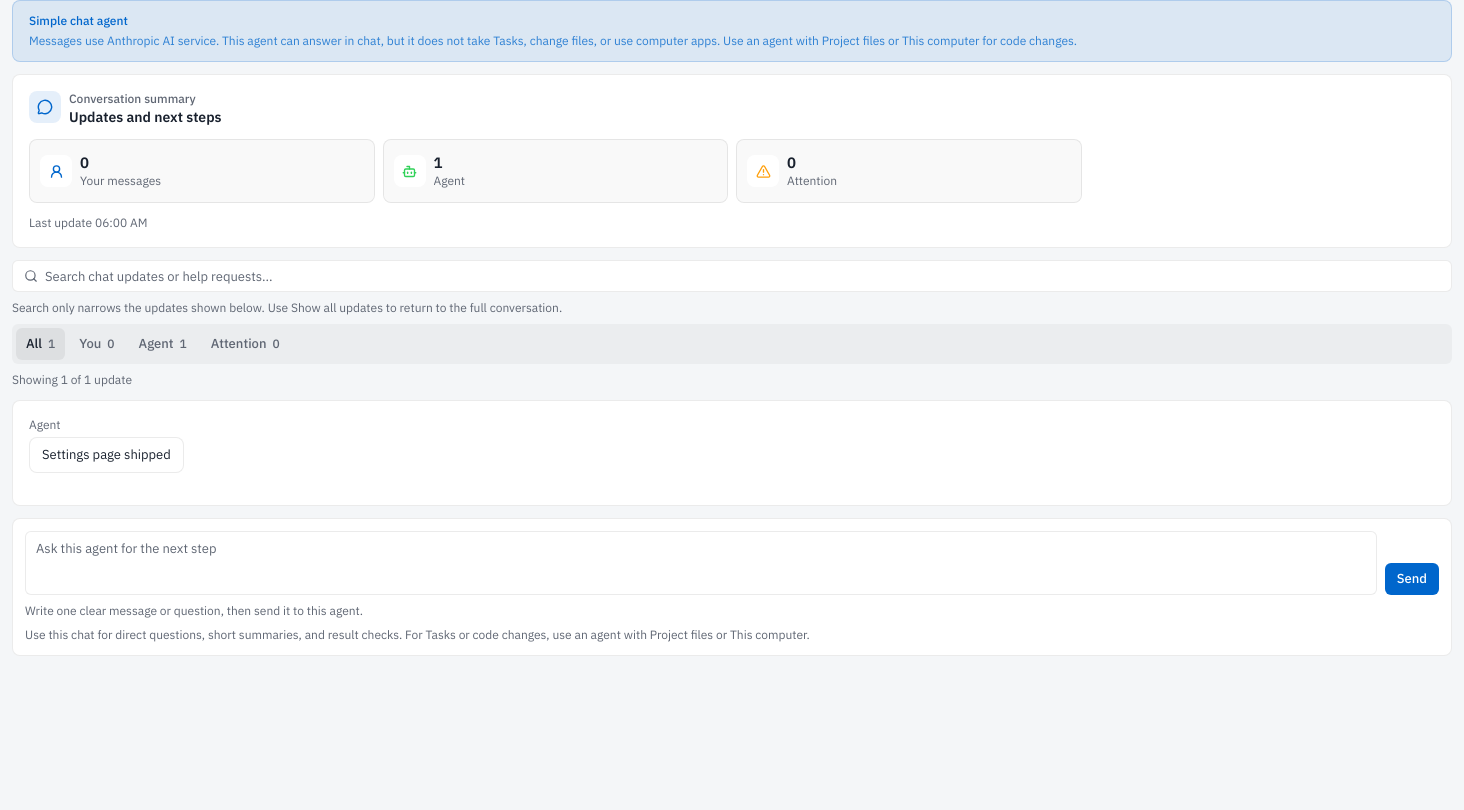
Scenario: ChatView › explains an empty You filter without operator jargon
Click the button with aria-label "show your messages, 0 matching updates". click: (97, 344)
box: 69,328 -> 125,360
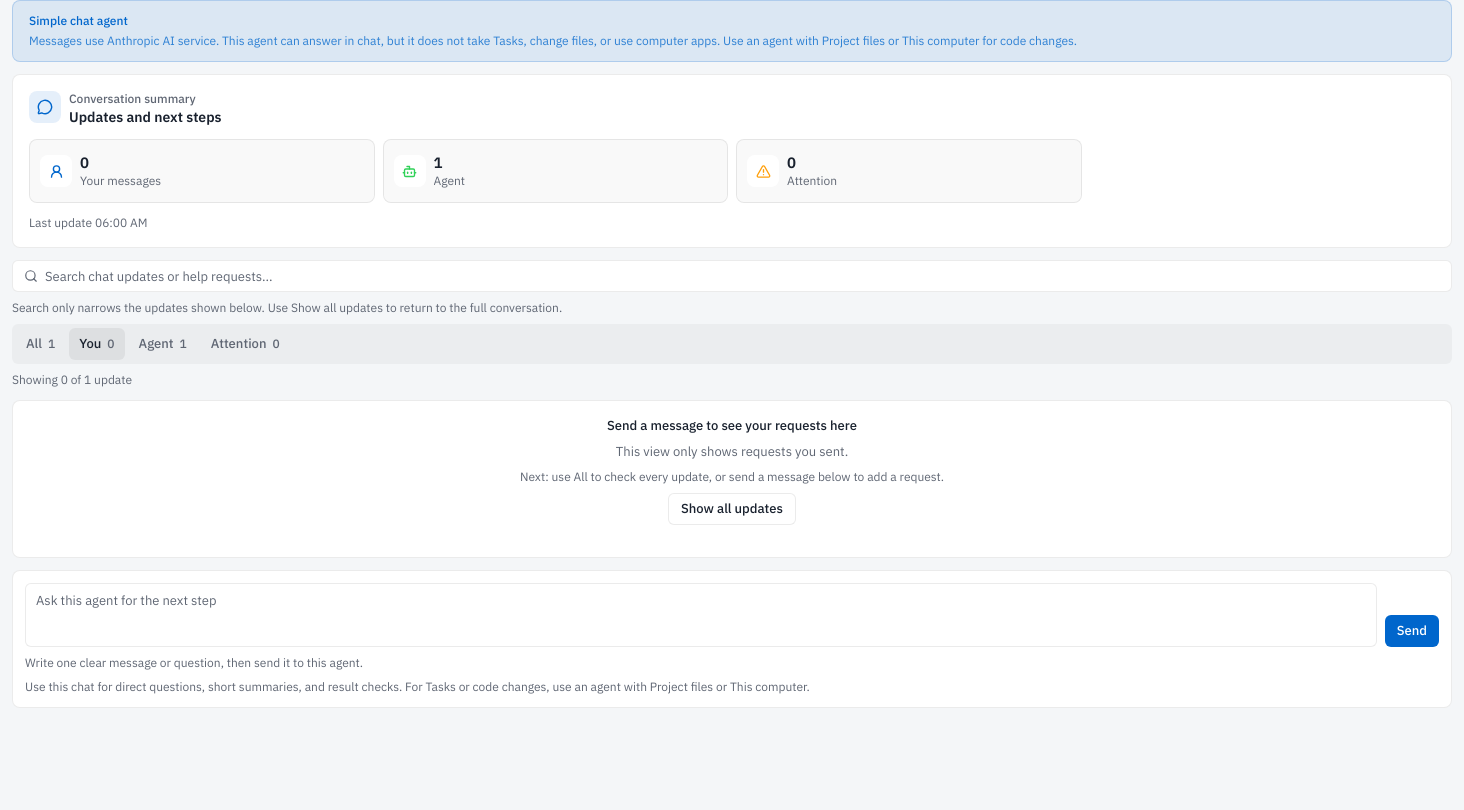
Expected: the message with test id "conversation-filter-empty" does not show "No messages from you in this view yet", 520,417 -> 944,525
Now the message with test id "conversation-filter-empty" shows "Send a message to see your requests here", box 607,417 -> 857,434
Now the message with test id "conversation-filter-empty" shows "This view only shows requests you sent.", box 616,443 -> 848,460
